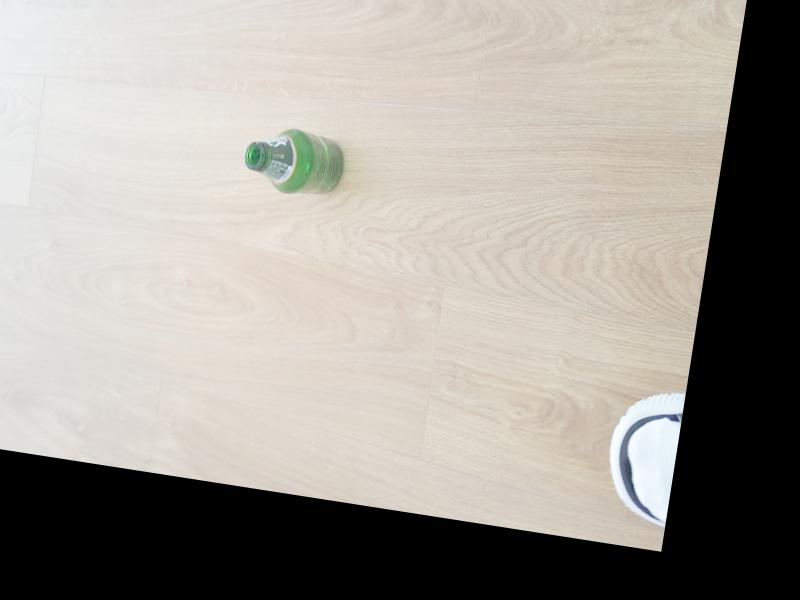Beer: (239, 123, 349, 206)
